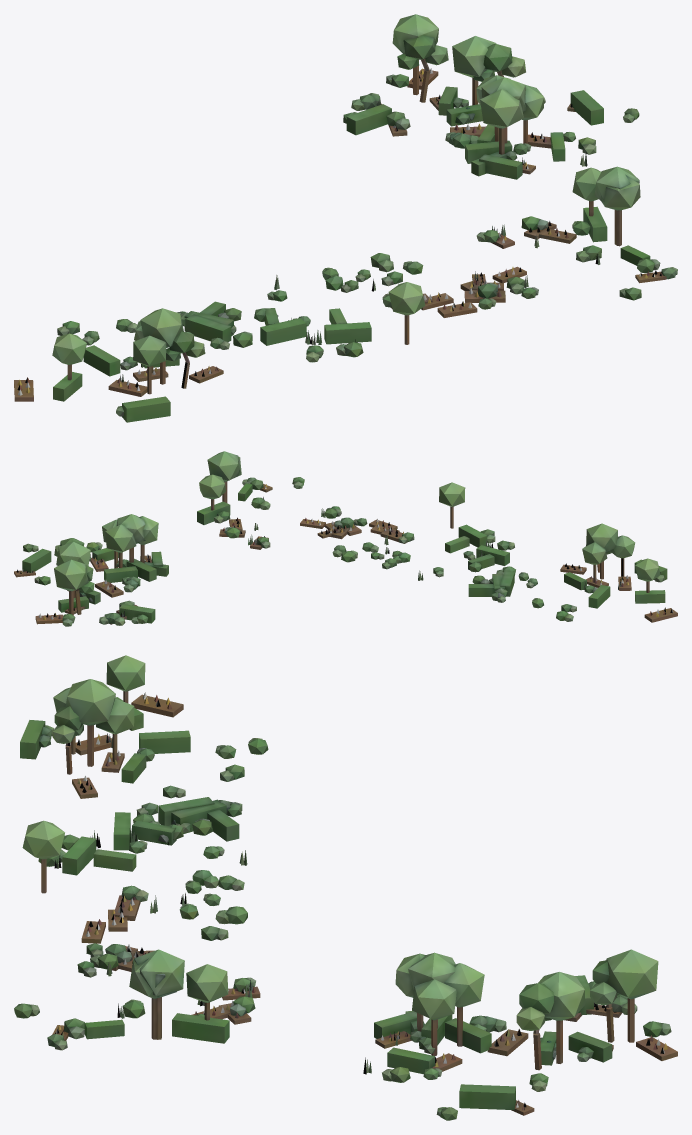
Rendered from groves-garden.glb.
The picture shows the model from 3 angles, top to bottom: view 1: azimuth 30°, elevation 25°; view 2: azimuth 150°, elevation 25°; view 3: azimuth 270°, elevation 25°; orthographic projection. The views are drawn at different scales.
Parts seen in each view (by area): view 1: groves-garden; view 2: groves-garden; view 3: groves-garden.
Boxes of the visible parts, x1,y1,x2,y2 form: groves-garden: (14, 14, 677, 422); groves-garden: (14, 451, 677, 626); groves-garden: (14, 655, 677, 1120).
Bounding box in the file's own units: 6.66 × 0.7177 × 4.39.
1 material, 1 textured.
